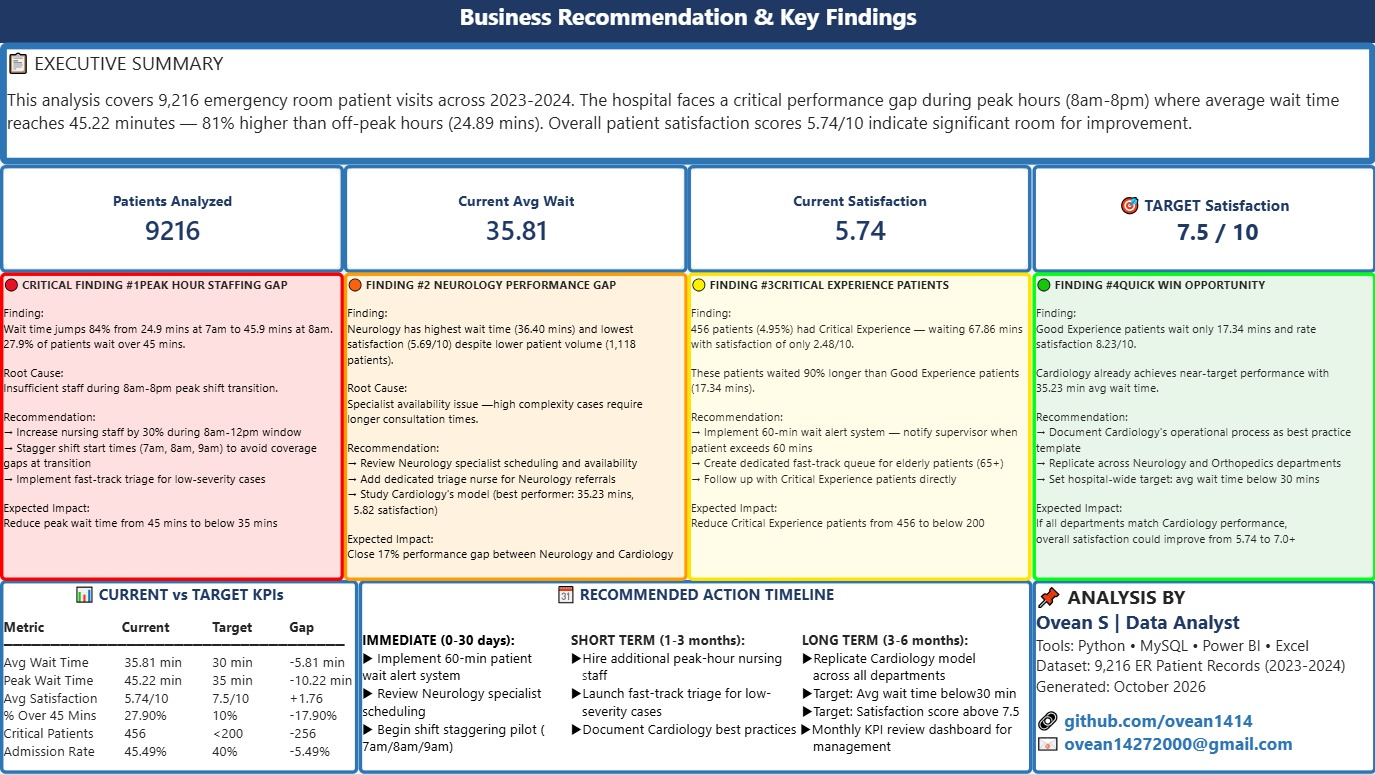

The dashboard page shown, as its layout file describes it:
{"tool":"powerbi","page":{"name":"Business Recommendation","canvas":[1920,1080],"ordinal":3},"visuals":[{"type":"textbox","box":[0,0,1920.4,60],"z":0},{"type":"textbox","box":[0,59.3,1920.4,170],"z":1},{"type":"cardVisual","fields":{"Data":["hospital_er_clean.Total Patients"]},"box":[0,230,480,150],"z":2},{"type":"cardVisual","fields":{"Data":["hospital_er_clean.Avg Wait Time"]},"box":[480,230,480,150],"z":3},{"type":"cardVisual","fields":{"Data":["hospital_er_clean.Avg Satisfaction"]},"box":[960,230,480,150],"z":4},{"type":"textbox","box":[1440.7,230.2,480,150],"z":5},{"type":"textbox","box":[0,810,500,270],"z":6},{"type":"textbox","box":[1440.7,810,480,270.3],"z":7},{"type":"textbox","box":[500.6,810,940,270.3],"z":8},{"type":"textbox","box":[0,380.2,480,430],"z":9},{"type":"textbox","box":[480,380.2,480,430],"z":10},{"type":"textbox","box":[960,380,480,430],"z":11},{"type":"textbox","box":[1440,380,480,430],"z":12}]}

Visuals, with their boxes in screenshot pixels (x1, y1, x2, y2), scaled from the page's 1920x1080 canvas onto the 1375x775 screenshot:
textbox: {"left": 0, "top": 0, "right": 1374, "bottom": 43}
textbox: {"left": 0, "top": 43, "right": 1374, "bottom": 165}
cardVisual - hospital_er_clean.Total Patients: {"left": 0, "top": 165, "right": 344, "bottom": 273}
cardVisual - hospital_er_clean.Avg Wait Time: {"left": 344, "top": 165, "right": 688, "bottom": 273}
cardVisual - hospital_er_clean.Avg Satisfaction: {"left": 688, "top": 165, "right": 1031, "bottom": 273}
textbox: {"left": 1032, "top": 165, "right": 1374, "bottom": 273}
textbox: {"left": 0, "top": 581, "right": 358, "bottom": 774}
textbox: {"left": 1032, "top": 581, "right": 1374, "bottom": 774}
textbox: {"left": 359, "top": 581, "right": 1032, "bottom": 774}
textbox: {"left": 0, "top": 273, "right": 344, "bottom": 581}
textbox: {"left": 344, "top": 273, "right": 688, "bottom": 581}
textbox: {"left": 688, "top": 273, "right": 1031, "bottom": 581}
textbox: {"left": 1031, "top": 273, "right": 1374, "bottom": 581}
